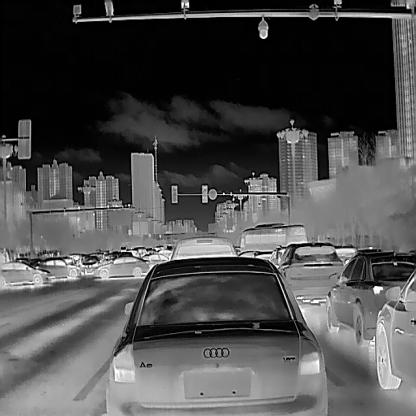bus: (235, 221, 308, 253)
car: (105, 256, 326, 414), (325, 251, 415, 345), (374, 268, 416, 388), (276, 242, 344, 302), (0, 260, 55, 284), (93, 254, 149, 277), (32, 256, 78, 279), (80, 254, 98, 275)
